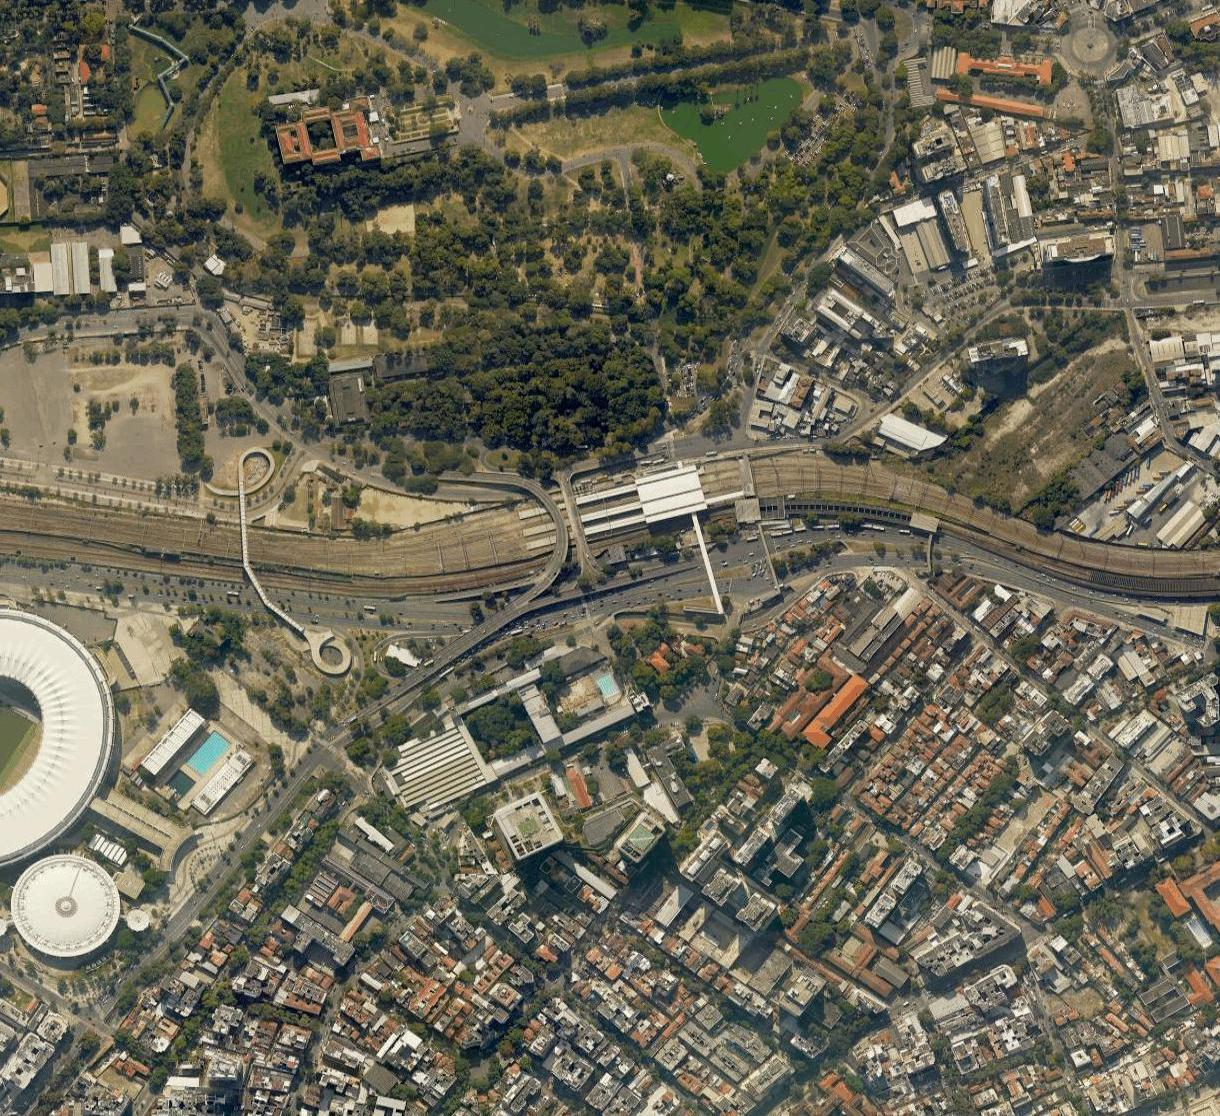bridge: (535, 487, 589, 556)
train_station: (539, 458, 724, 567)
